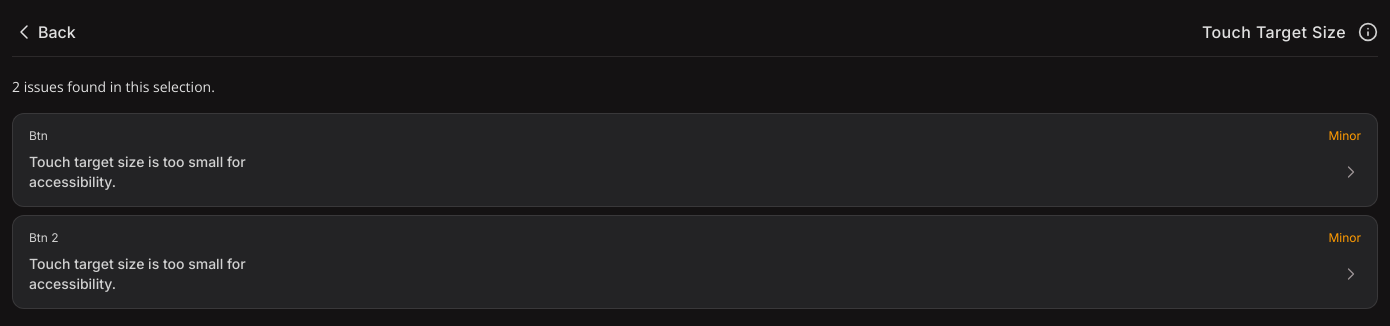
IssuesWrapper › multi-match quick-check list › clicking a row posts NAVIGATE with that issue's node id and shows its detail view
What coordinates should you click on to do the following:
click the button "Btn 2"
I would click on:
 (1345, 238)
Its box is [13, 216, 1377, 308].
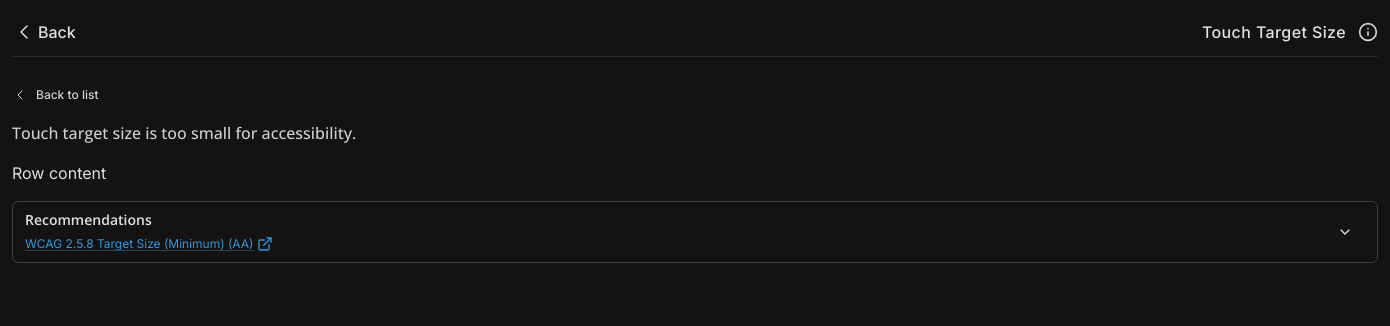
Check: the text "Row content" is shown, box [12, 163, 106, 183]
Check: the button "Back to list" is shown, box [12, 77, 98, 113]
